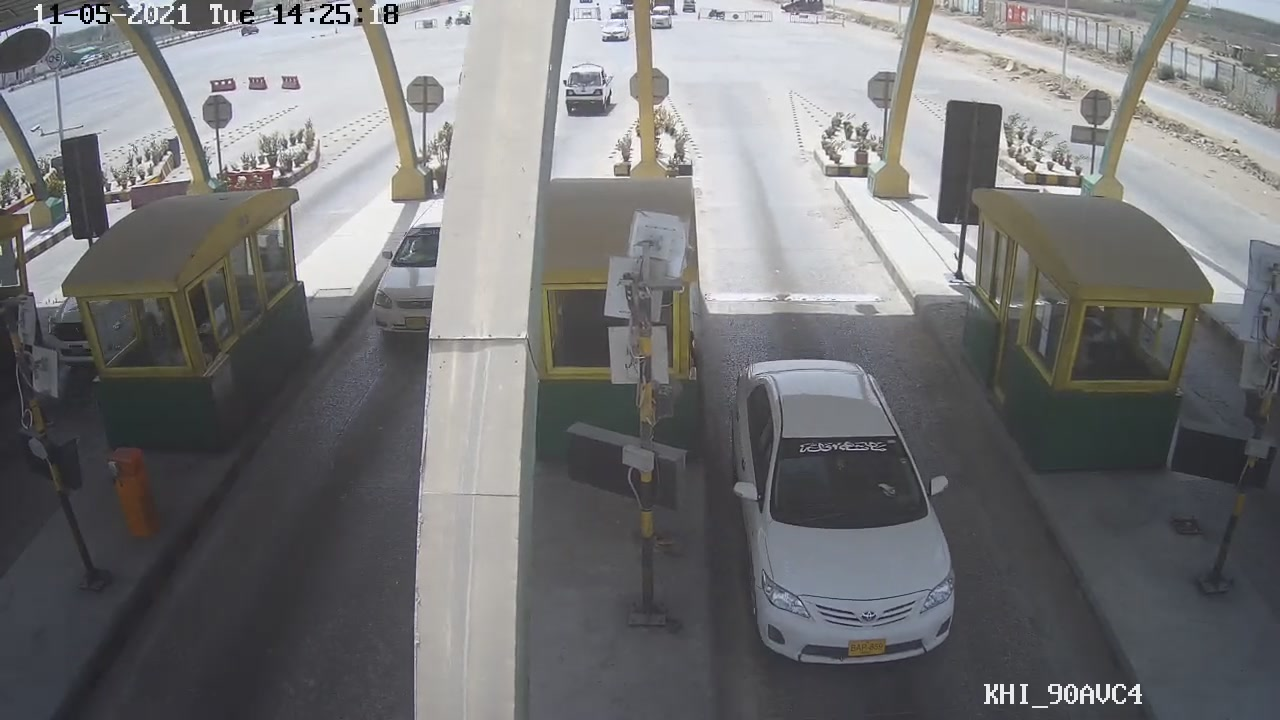F1: (722, 351, 960, 672)
